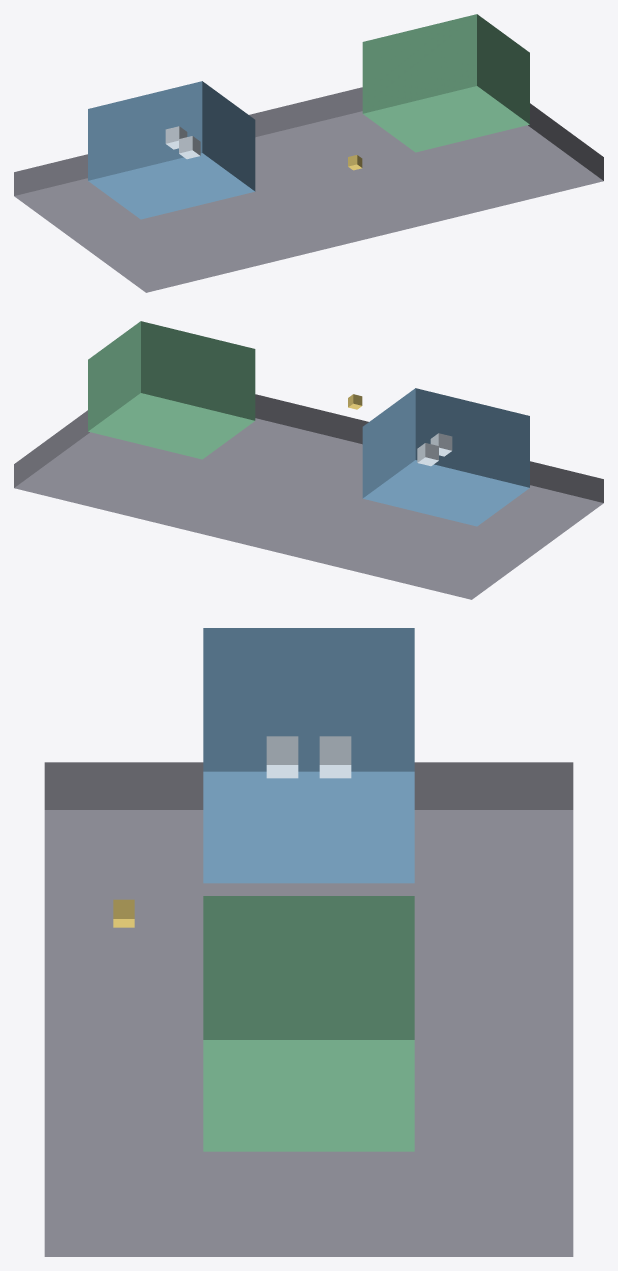
Rendered from table_static.glb.
3 renders of one model, top to bottom at view 1: azimuth 30°, elevation 25°; view 2: azimuth 150°, elevation 25°; view 3: azimuth 270°, elevation 25°, orthographic. The views are drawn at different scales.
Visible parts, largest first — view 1: optical_table, highspec_body, deepspec_body, deepspec_prism_b; view 2: optical_table, highspec_body, deepspec_body, deepspec_prism_a; view 3: optical_table, highspec_body, deepspec_body, deepspec_prism_a, deepspec_prism_b.
Part boxes in pixels (x1,y1,x2,y2): optical_table: (14,87,603,292); highspec_body: (362,14,529,152); deepspec_body: (88,81,255,219); deepspec_prism_b: (179,136,200,159); optical_table: (14,394,603,599); highspec_body: (88,321,255,459); deepspec_body: (362,388,529,526); deepspec_prism_a: (417,443,438,466); optical_table: (44,762,573,1256); highspec_body: (203,896,414,1151); deepspec_body: (203,628,414,883); deepspec_prism_a: (319,736,351,778); deepspec_prism_b: (266,736,298,778).
Bounding box in the file's own units: 2 × 0.45 × 1.
